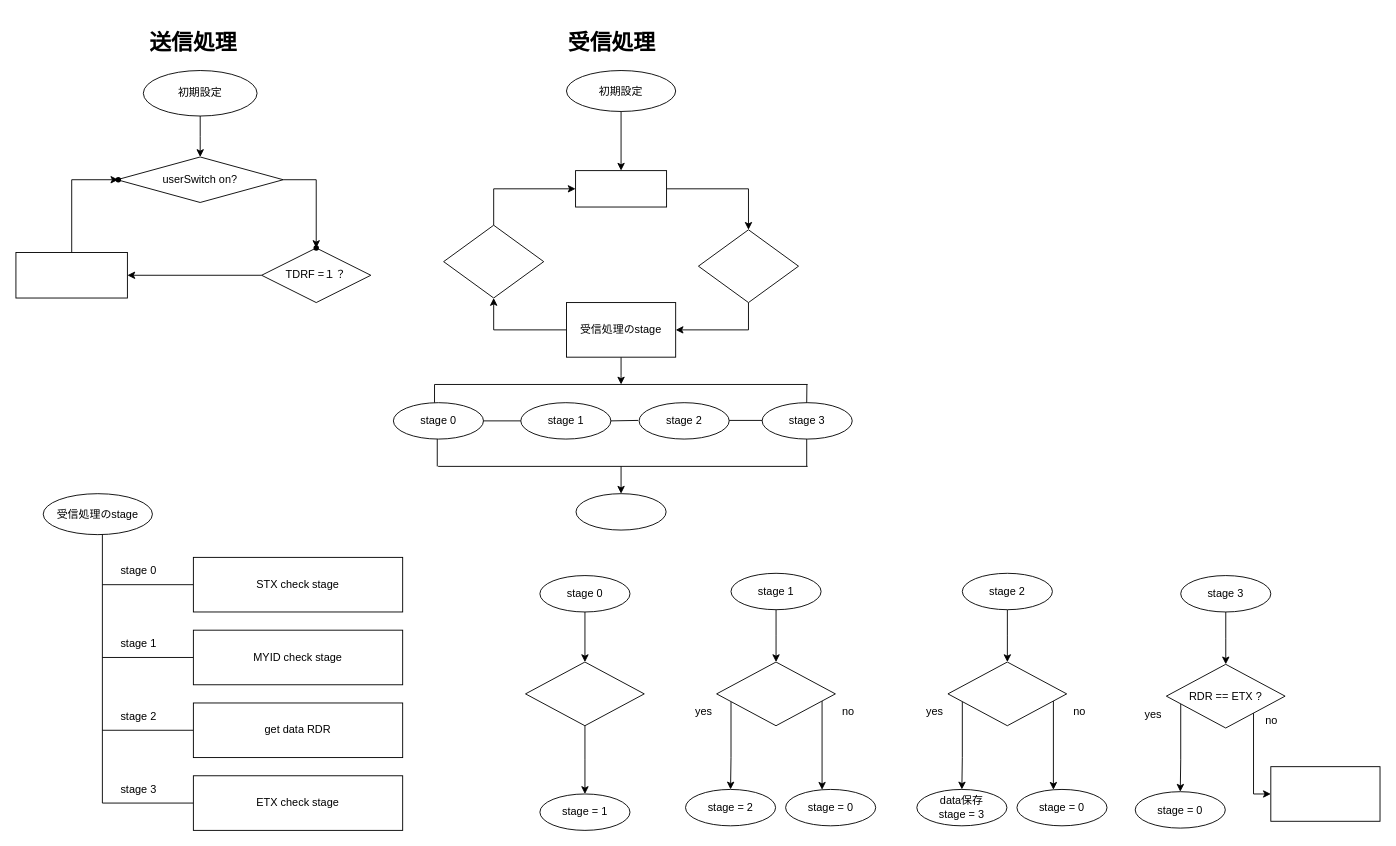
Some shapes in this 1396 by 846 pixel diagram are drawn without their labels. The centre of each missing label's shape, as x and y in pixels:
"4byte data 送信" belongs at (71,275).
"data 受信" belongs at (621,188).
"data表示" belongs at (620,511).
"error処理" belongs at (1325,793).
"RDR == MYID ?" belongs at (775,693).
"RDR == STX?" belongs at (584,693).
"RDRF = 1 ?" belongs at (748,266).
"RDRF = ０ ?" belongs at (493,261).
"RDRF == 1" belongs at (1007,693).
